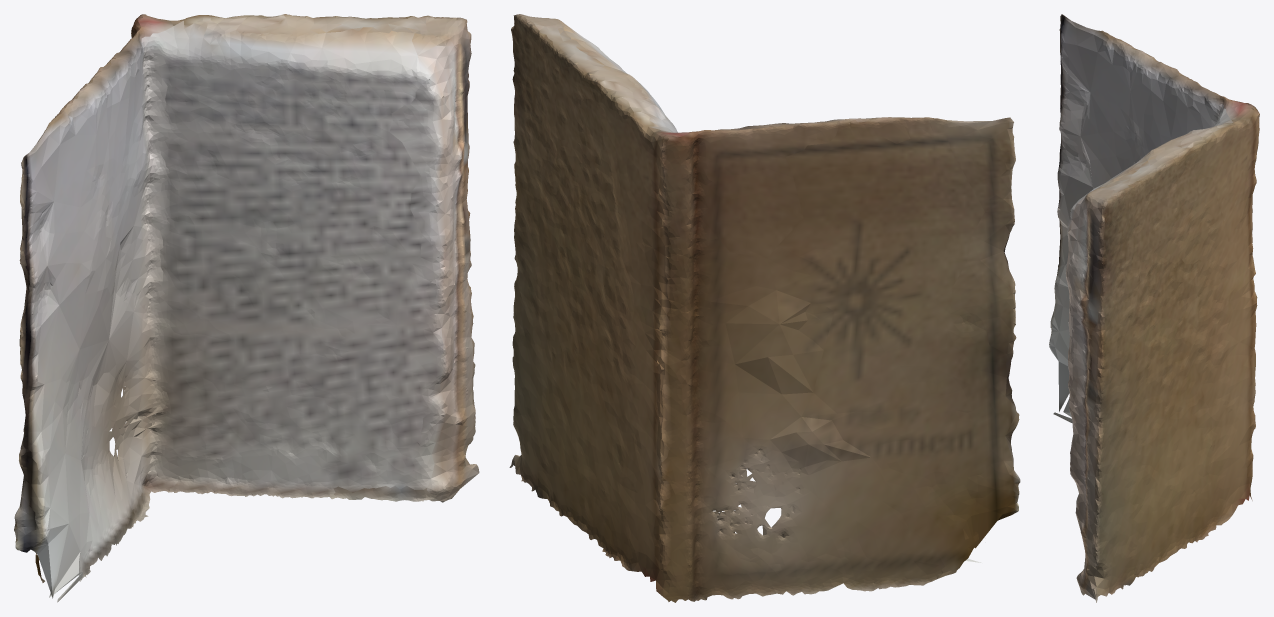
File: bookv5.glb
3 renders of one model, left to right at view 1: azimuth 30°, elevation 25°; view 2: azimuth 150°, elevation 25°; view 3: azimuth 270°, elevation 25°, orthographic. The views are drawn at different scales.
Parts seen in each view (by area): view 1: mesh; view 2: mesh; view 3: mesh.
Part boxes in pixels (<box>): mesh: <box>14,14,479,602</box>; mesh: <box>509,14,1020,602</box>; mesh: <box>1049,14,1259,602</box>.
Bounding box in the file's own units: 5.75 × 5.31 × 2.5.
1 material, 1 textured.
